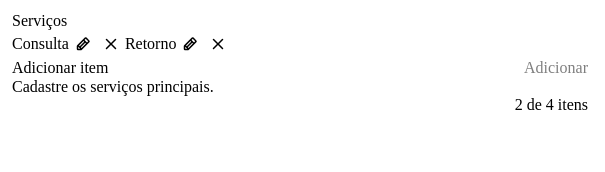
Scenario: TagInput › adiciona, edita e remove itens por controles acessíveis
Type "Avaliação" into the field labelled "Serviços" at (268, 68), box [12,59,524,77]
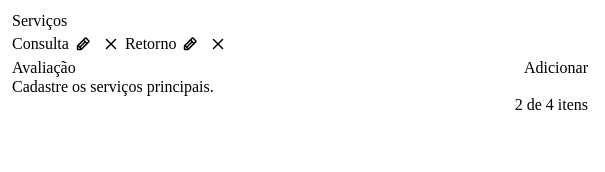
Press Enter in the field labelled "Serviços", box [12,59,524,77]
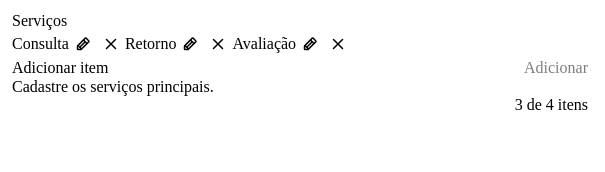
Result: the text "Avaliação" is shown at [232,35,296,53]
Click the button named "Editar Consulta" at (83, 44), box [69,30,97,58]
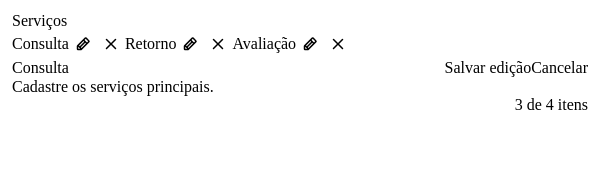
Result: the field labelled "Serviços" holds "Consulta"
Replace the text in the field labelled "Serviços" with "Primeira consulta" at (228, 68), box [12,59,444,77]
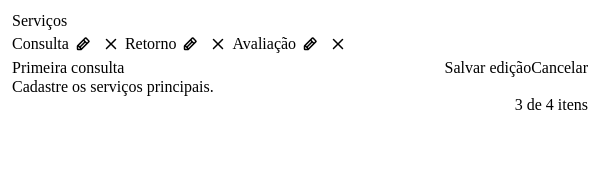
Click the button "Salvar edição" at (488, 68), box [444,58,531,78]
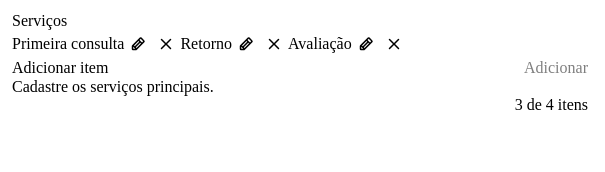
Result: the text "Primeira consulta" is shown at [12,35,124,53]
Click the button named "Remover Retorno" at (274, 44), box [260,30,288,58]
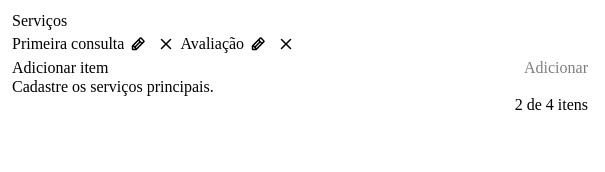
Result: the text "Retorno" is gone
